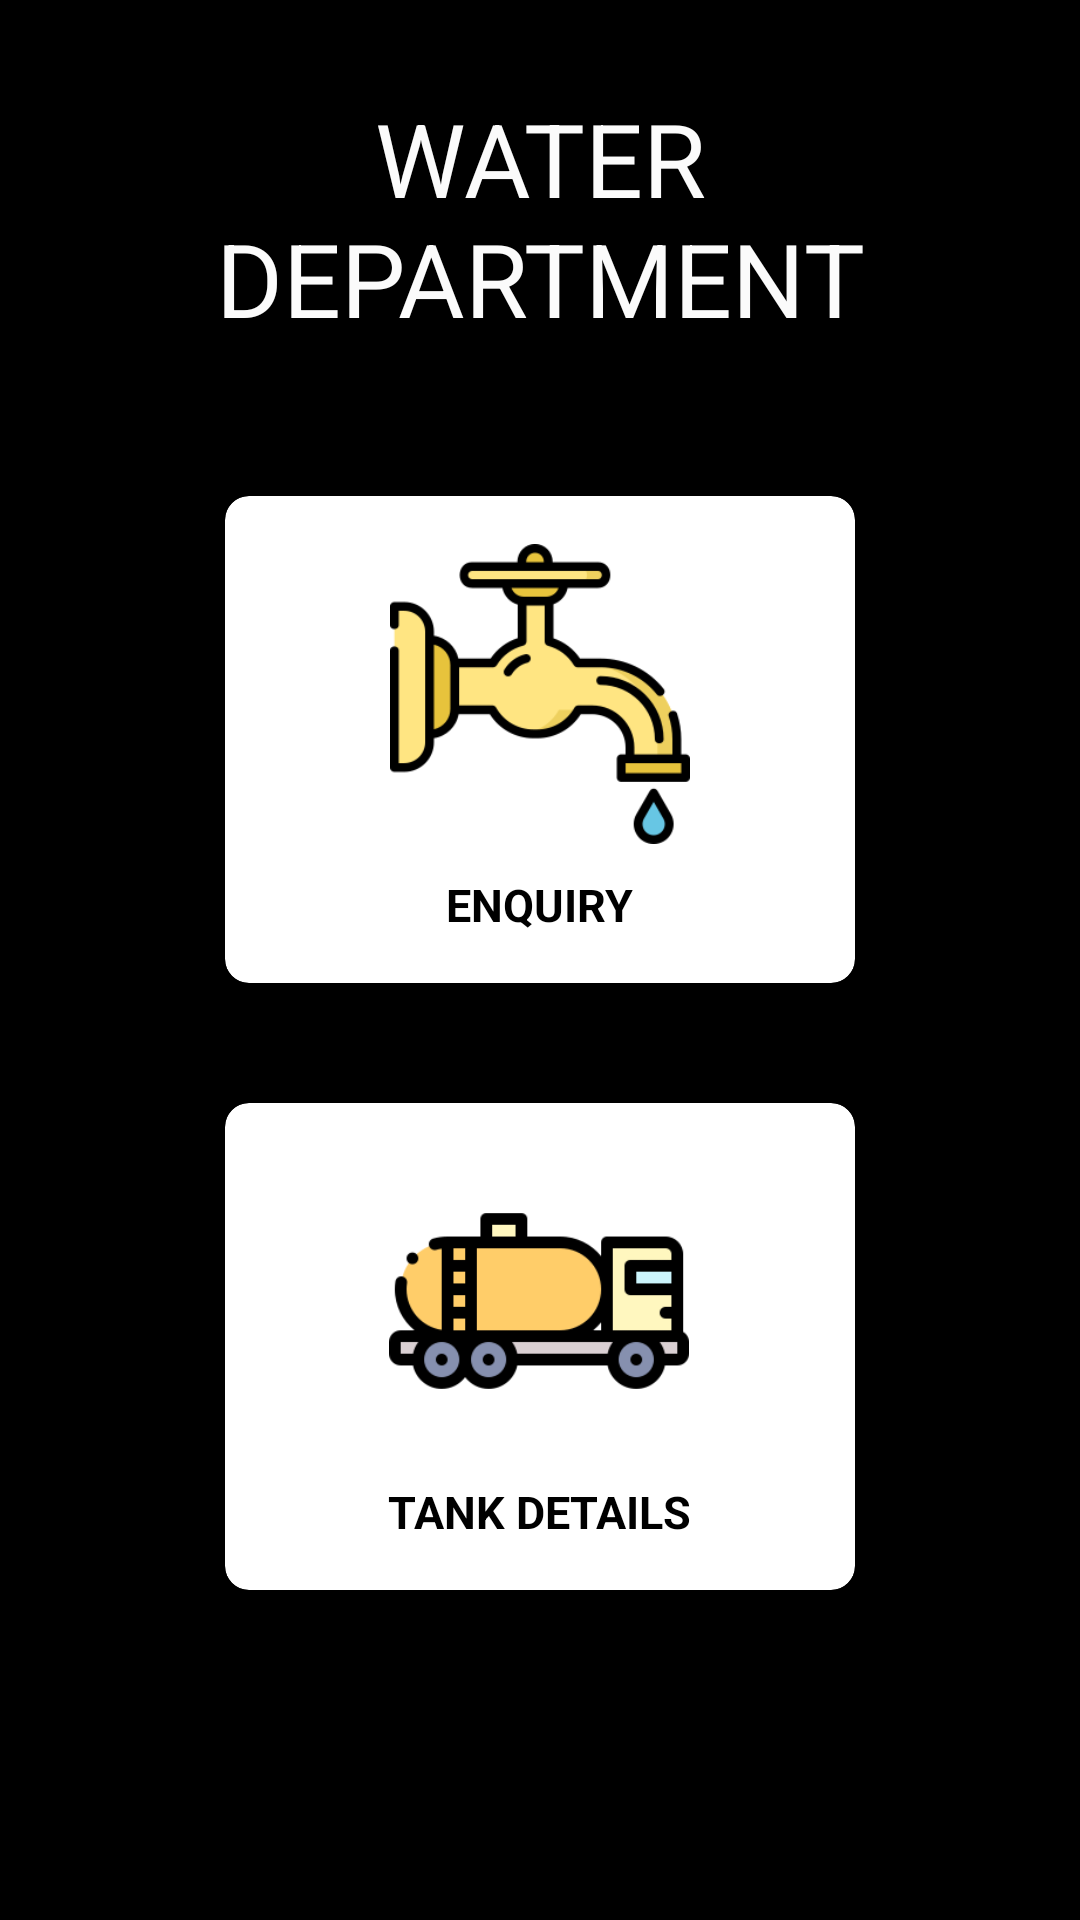

Icon bounding boxes for this 1080 × 1920 phone screenshot, format BBox(x1, y1, x2, y2):
water tank: BBox(389, 1213, 689, 1389)
water tap: BBox(390, 544, 690, 844)
